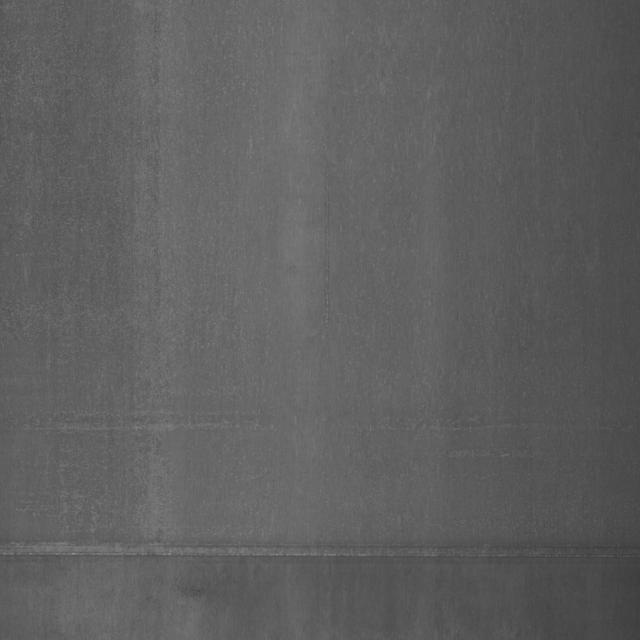crease: (3, 543, 640, 575)
